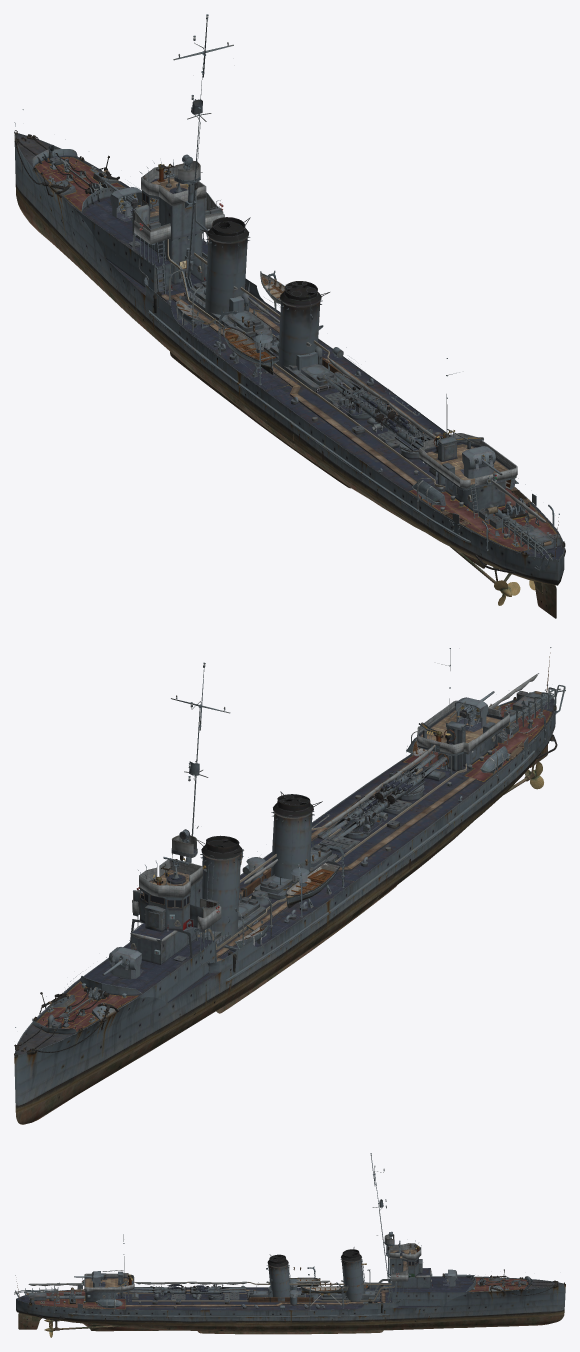
The model's file is destroyer.fbx.
3 views of the same model, one above another, from view 1: azimuth 30°, elevation 25°; view 2: azimuth 150°, elevation 25°; view 3: azimuth 270°, elevation 25° (orthographic). The views are drawn at different scales.
Visible parts, largest first — view 1: FSD005_Ens_Gabolde_1927_midfront_Enseigne_Gabolde_transparen; view 2: FSD005_Ens_Gabolde_1927_midfront_Enseigne_Gabolde_transparen; view 3: FSD005_Ens_Gabolde_1927_midfront_Enseigne_Gabolde_transparen.
Boxes of the visible parts, x1,y1,x2,y2 form: FSD005_Ens_Gabolde_1927_midfront_Enseigne_Gabolde_transparen: [14, 14, 565, 618]; FSD005_Ens_Gabolde_1927_midfront_Enseigne_Gabolde_transparen: [14, 647, 565, 1124]; FSD005_Ens_Gabolde_1927_midfront_Enseigne_Gabolde_transparen: [14, 1153, 565, 1334].
Bounding box in the file's own units: 1464 × 5025 × 14048.
